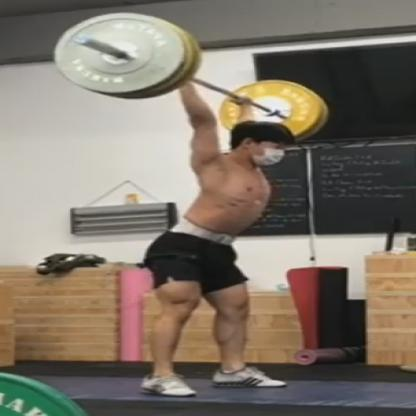Barbell: (48, 8, 202, 104)
